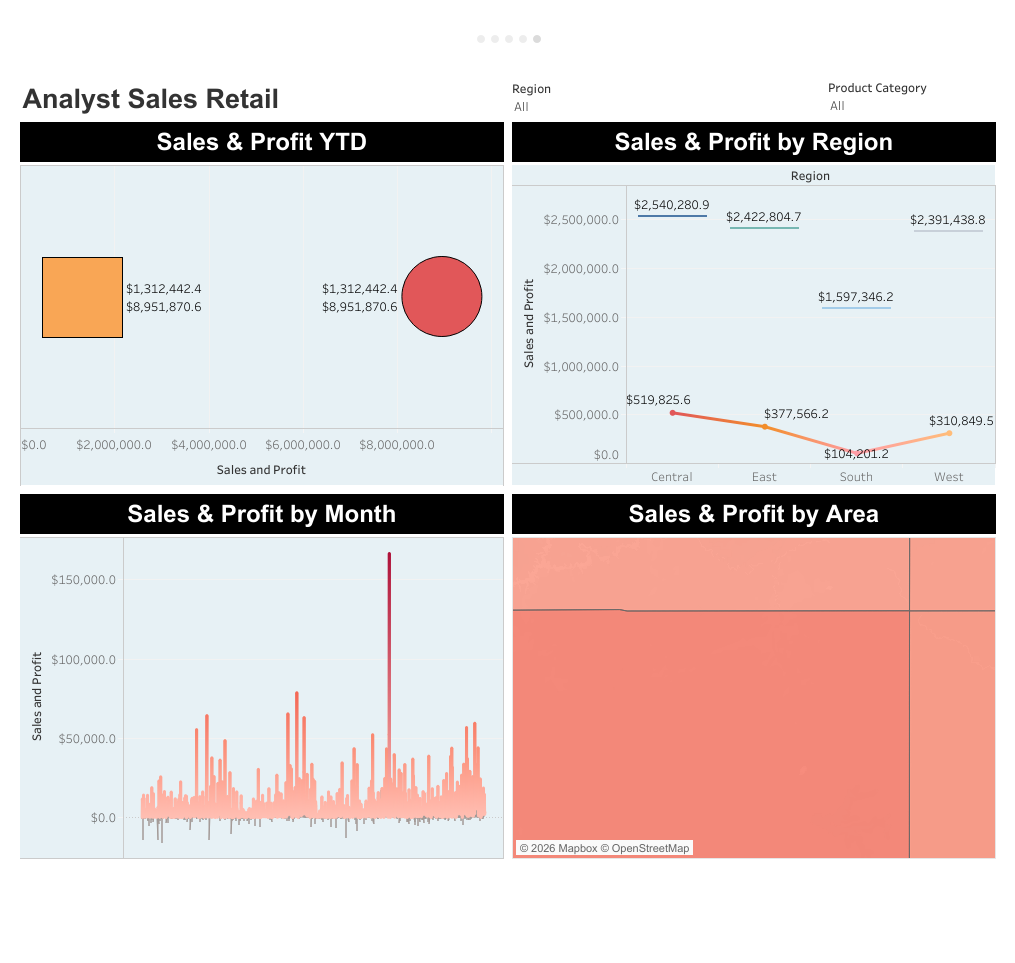

Layout of this report page (visuals, bound fields, positions):
{"tool":"tableau","page":{"name":"Analyst Sales Retail","canvas":[1000,800],"ordinal":0},"visuals":[{"type":"filter","title":"Sales & Profit by Region","param":"[federated.1mfn6cc13yxl5q1aqs7q21spa5ot].[none:Product Category:nk]","box":[820,6,168,39]},{"type":"filter","title":"Sales & Profit by Region","param":"[federated.1mfn6cc13yxl5q1aqs7q21spa5ot].[none:Region:nk]","box":[504,7,163,39]},{"type":"title","box":[8,8,984,39]},{"type":"worksheet","title":"Sales & Profit YTD","mark":"Square","cols":["Sales","Profit"],"box":[8,47,492,372.5]},{"type":"worksheet","title":"Sales & Profit by Region","mark":"GanttBar","rows":["Profit","Sales"],"cols":["Region"],"box":[500,47,492,372.5]},{"type":"worksheet","title":"Sales & Profit by Month","mark":"Automatic","rows":["Profit","Sales"],"cols":["Order Date"],"box":[8,419.5,492,372.5]},{"type":"worksheet","title":"Sales & Profit by Area","mark":"Automatic","box":[500,419.5,492,372.5]}]}

Visuals, with their boxes on the page's 1000x800 design canvas (x1, y1, x2, y2). These are canvas units, not pixel positions in the 1015x963 screenshot, which may show the page scaled, cropped or inside an application window:
"Sales & Profit by Region" filter: pyautogui.locateOnScreen(820, 6, 988, 45)
"Sales & Profit by Region" filter: pyautogui.locateOnScreen(504, 7, 667, 46)
title: pyautogui.locateOnScreen(8, 8, 992, 47)
"Sales & Profit YTD" worksheet (Square marks): pyautogui.locateOnScreen(8, 47, 500, 420)
"Sales & Profit by Region" worksheet (GanttBar marks): pyautogui.locateOnScreen(500, 47, 992, 420)
"Sales & Profit by Month" worksheet: pyautogui.locateOnScreen(8, 420, 500, 792)
"Sales & Profit by Area" worksheet: pyautogui.locateOnScreen(500, 420, 992, 792)
